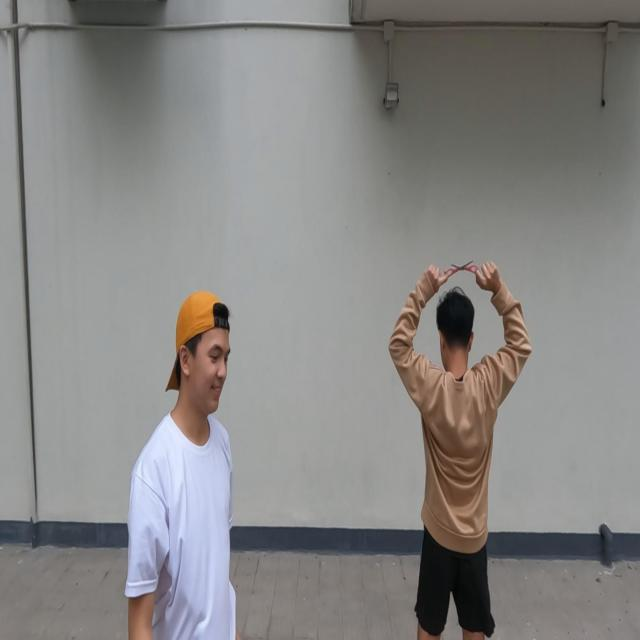scissor: (444, 260, 479, 282)
